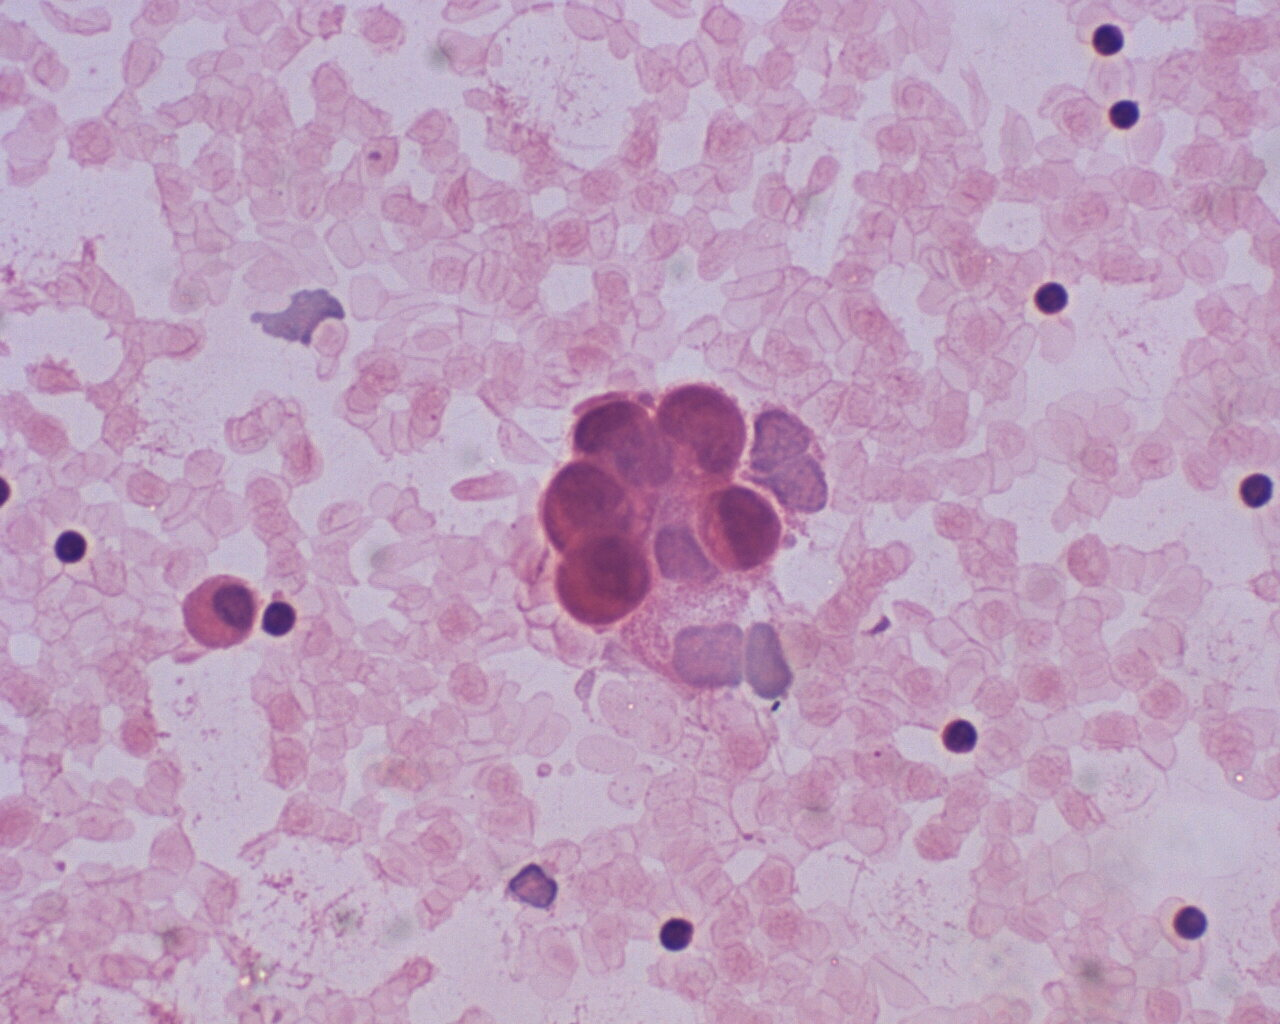ab: (534, 459, 641, 552), (554, 540, 656, 636), (661, 372, 749, 483), (693, 482, 788, 571)
lymph: (48, 526, 98, 574), (1027, 274, 1076, 322), (659, 911, 700, 960), (1166, 900, 1213, 940), (942, 706, 980, 757), (1106, 94, 1149, 136)
meso: (178, 571, 263, 658)
